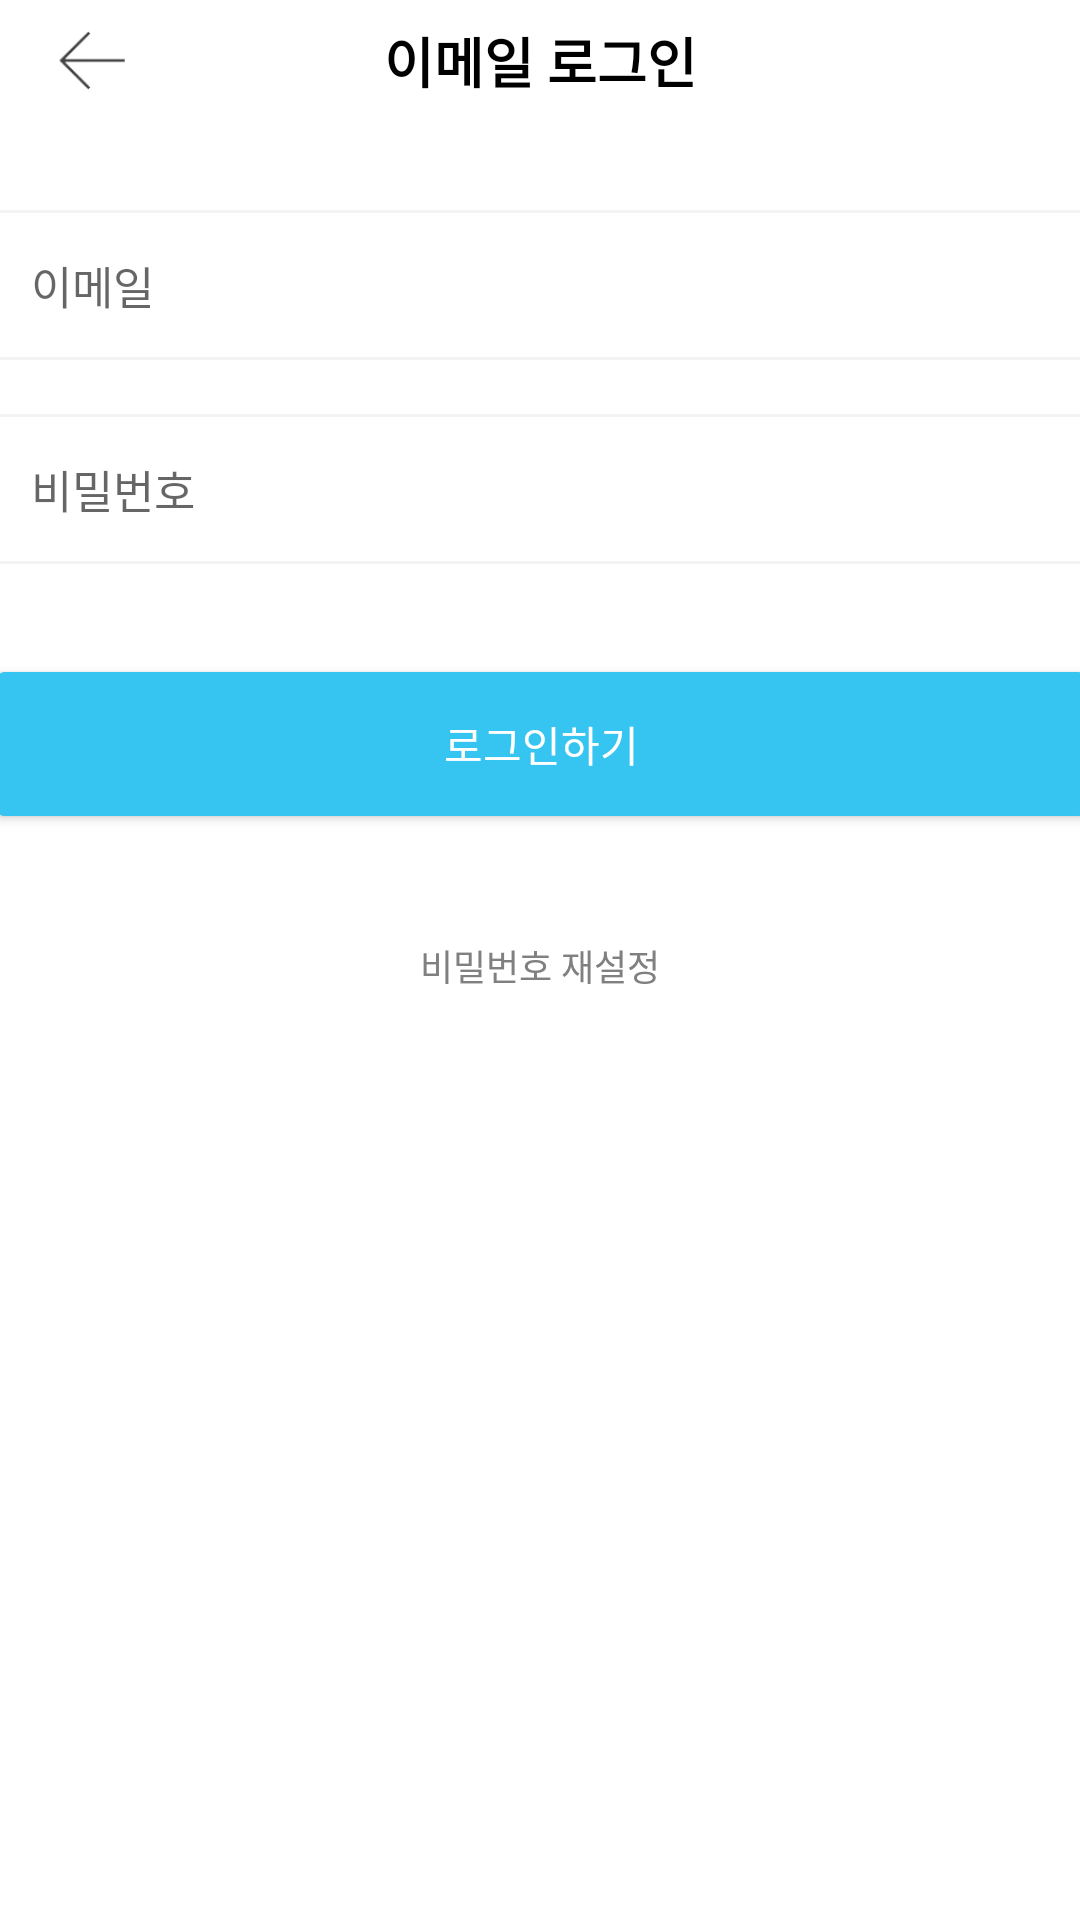

Icons on this 1080 x 1920 Android screen, each with its box as [x1, y1, x2, y2]:
sign up back arrow: [59, 32, 125, 89]
